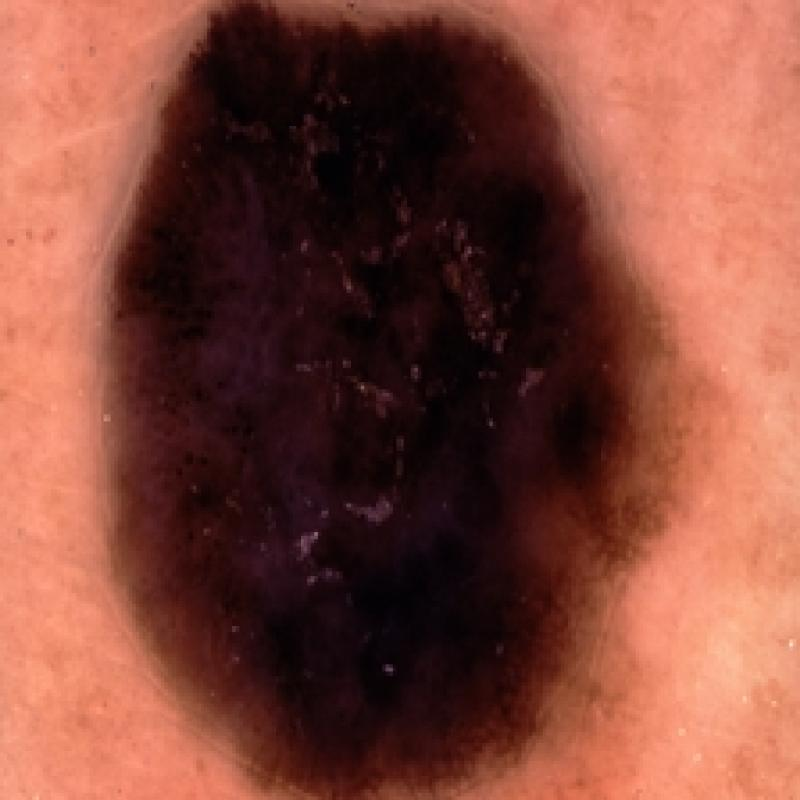malignant: (103, 0, 660, 796)
